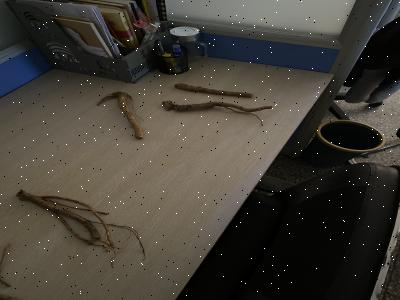Root: (16, 190, 119, 251), (97, 92, 143, 139), (163, 101, 272, 114), (175, 84, 253, 98)
